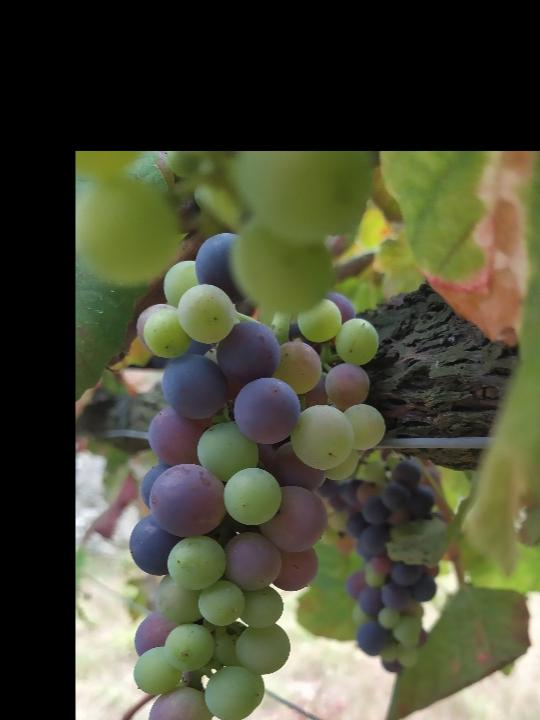grape: (127, 228, 389, 720)
